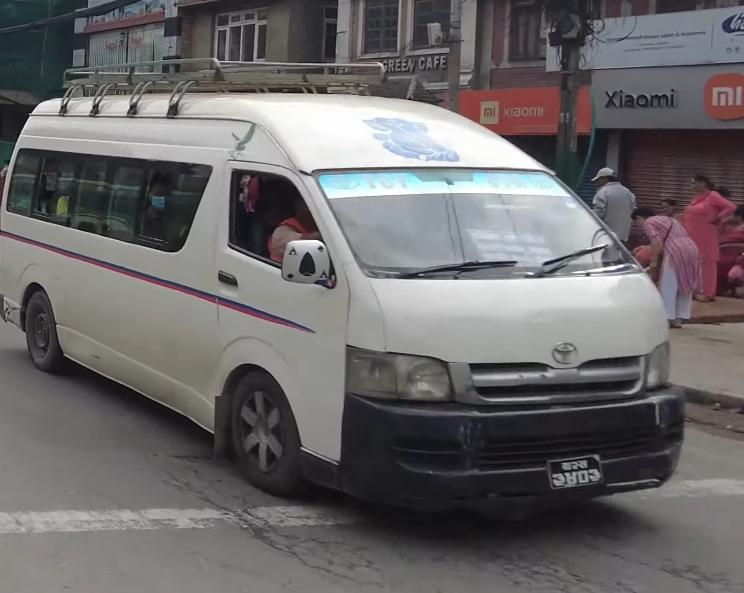micro_bus: (9, 67, 689, 534)
